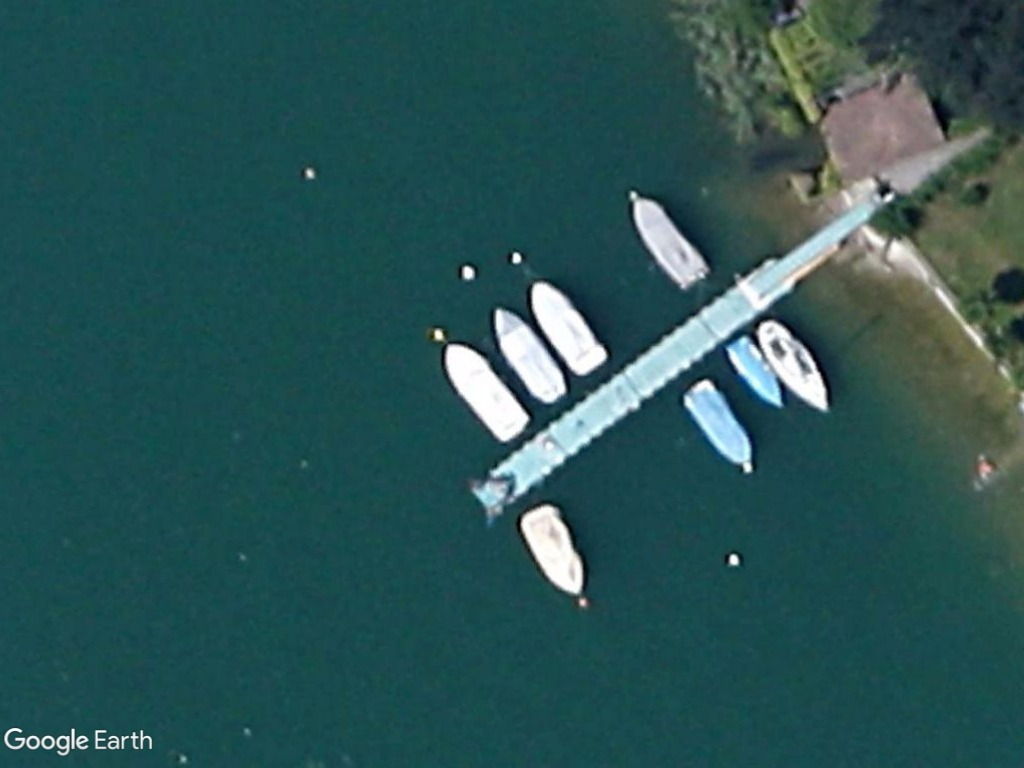boat: (442, 337, 529, 443), (488, 301, 571, 408), (629, 188, 713, 292), (526, 276, 609, 379), (758, 315, 835, 420), (512, 501, 588, 599), (683, 373, 754, 472), (722, 331, 787, 414)
